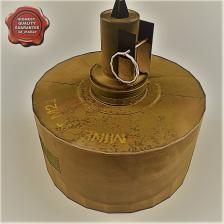M21: (36, 37, 203, 215)
